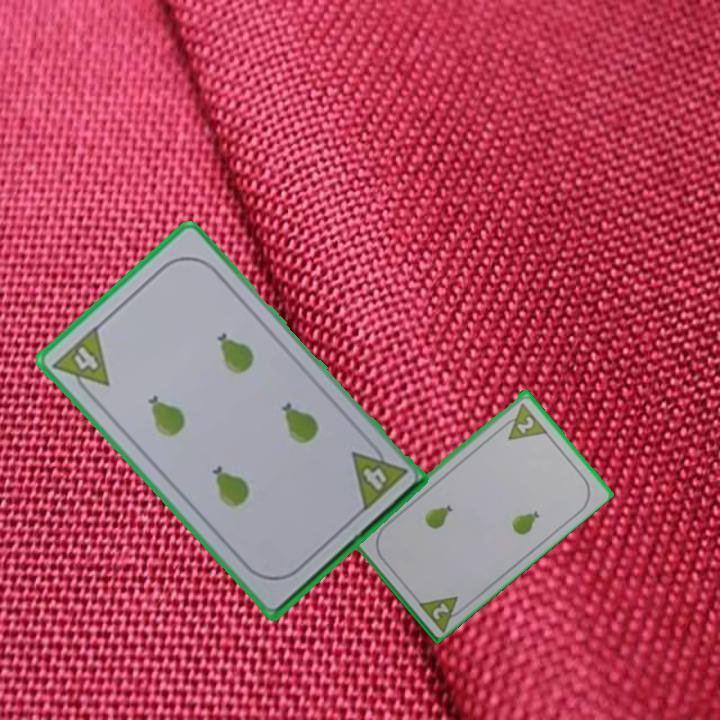2p: (513, 412, 537, 436), (429, 599, 452, 622)
4p: (49, 322, 112, 403), (347, 436, 410, 515)
